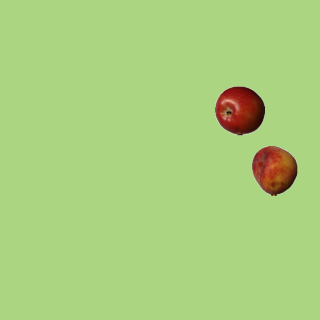Apple Braeburn: (214, 85, 264, 135)
Peach: (249, 145, 299, 195)
